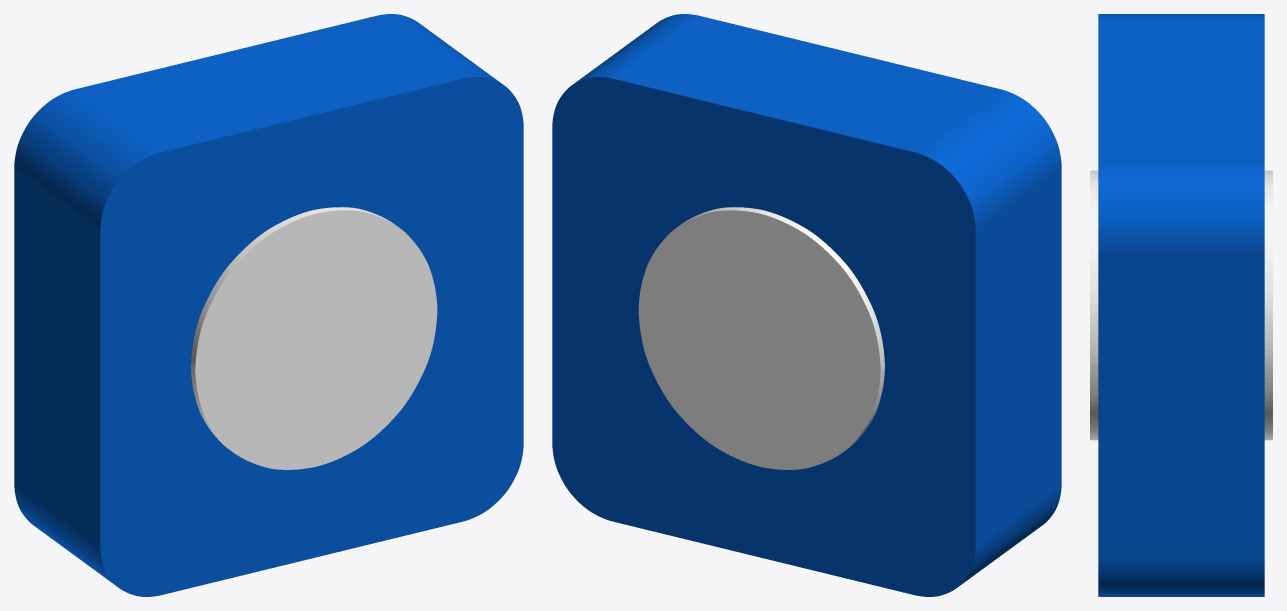
3 renders of one model, left to right at view 1: azimuth 30°, elevation 25°; view 2: azimuth 150°, elevation 25°; view 3: azimuth 270°, elevation 25°, orthographic. The views are drawn at different scales.
Visible parts, largest first — view 1: U+23FA_layer00_obj00, U+23FA_layer01_obj00; view 2: U+23FA_layer00_obj00, U+23FA_layer01_obj00; view 3: U+23FA_layer00_obj00, U+23FA_layer01_obj00.
Part boxes in pixels (x1,y1,x2,y2): U+23FA_layer00_obj00: (14,14,523,596); U+23FA_layer01_obj00: (191,207,437,469); U+23FA_layer00_obj00: (552,14,1061,596); U+23FA_layer01_obj00: (638,207,884,469); U+23FA_layer00_obj00: (1098,14,1264,596); U+23FA_layer01_obj00: (1090,170,1272,440).
Bounding box in the file's own units: 0.5678 × 0.5677 × 0.22.
